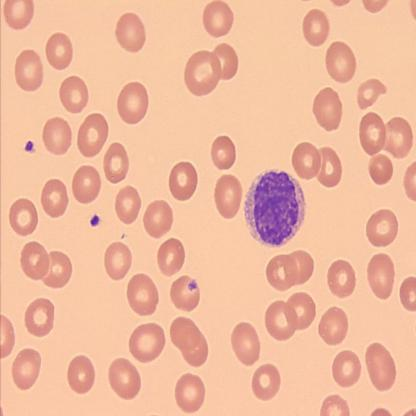Metamyelocyte: (245, 169, 306, 248)
